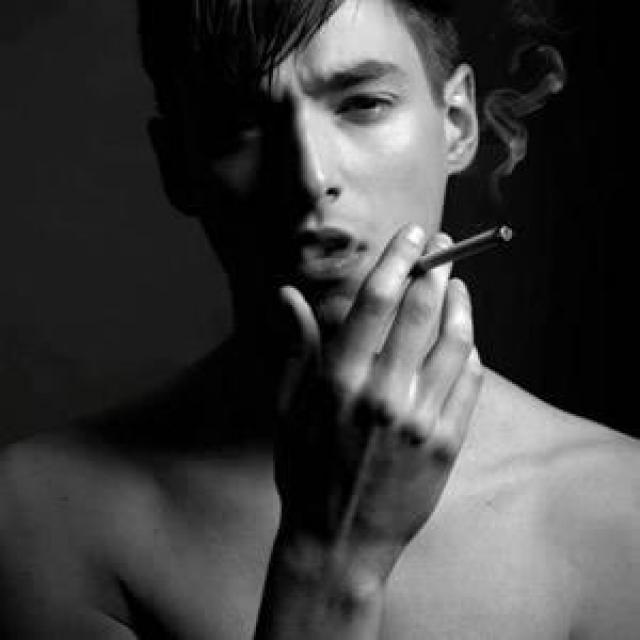cigarette: (390, 211, 529, 284)
